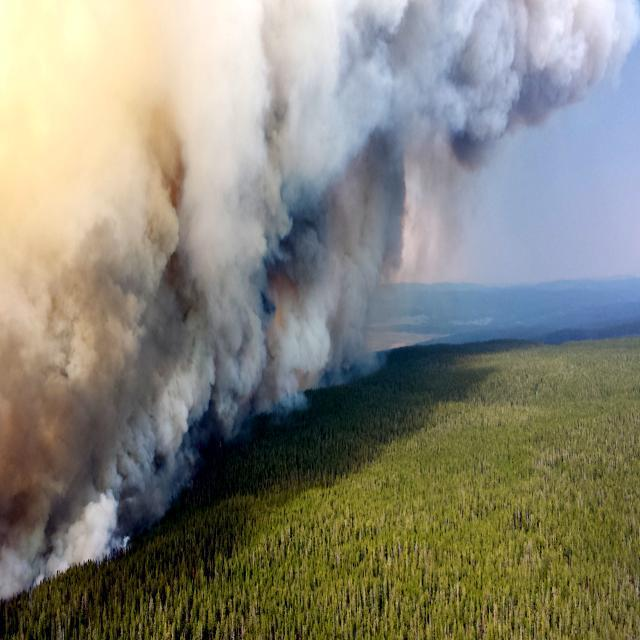Smoke: (0, 1, 388, 498), (175, 0, 598, 371)
